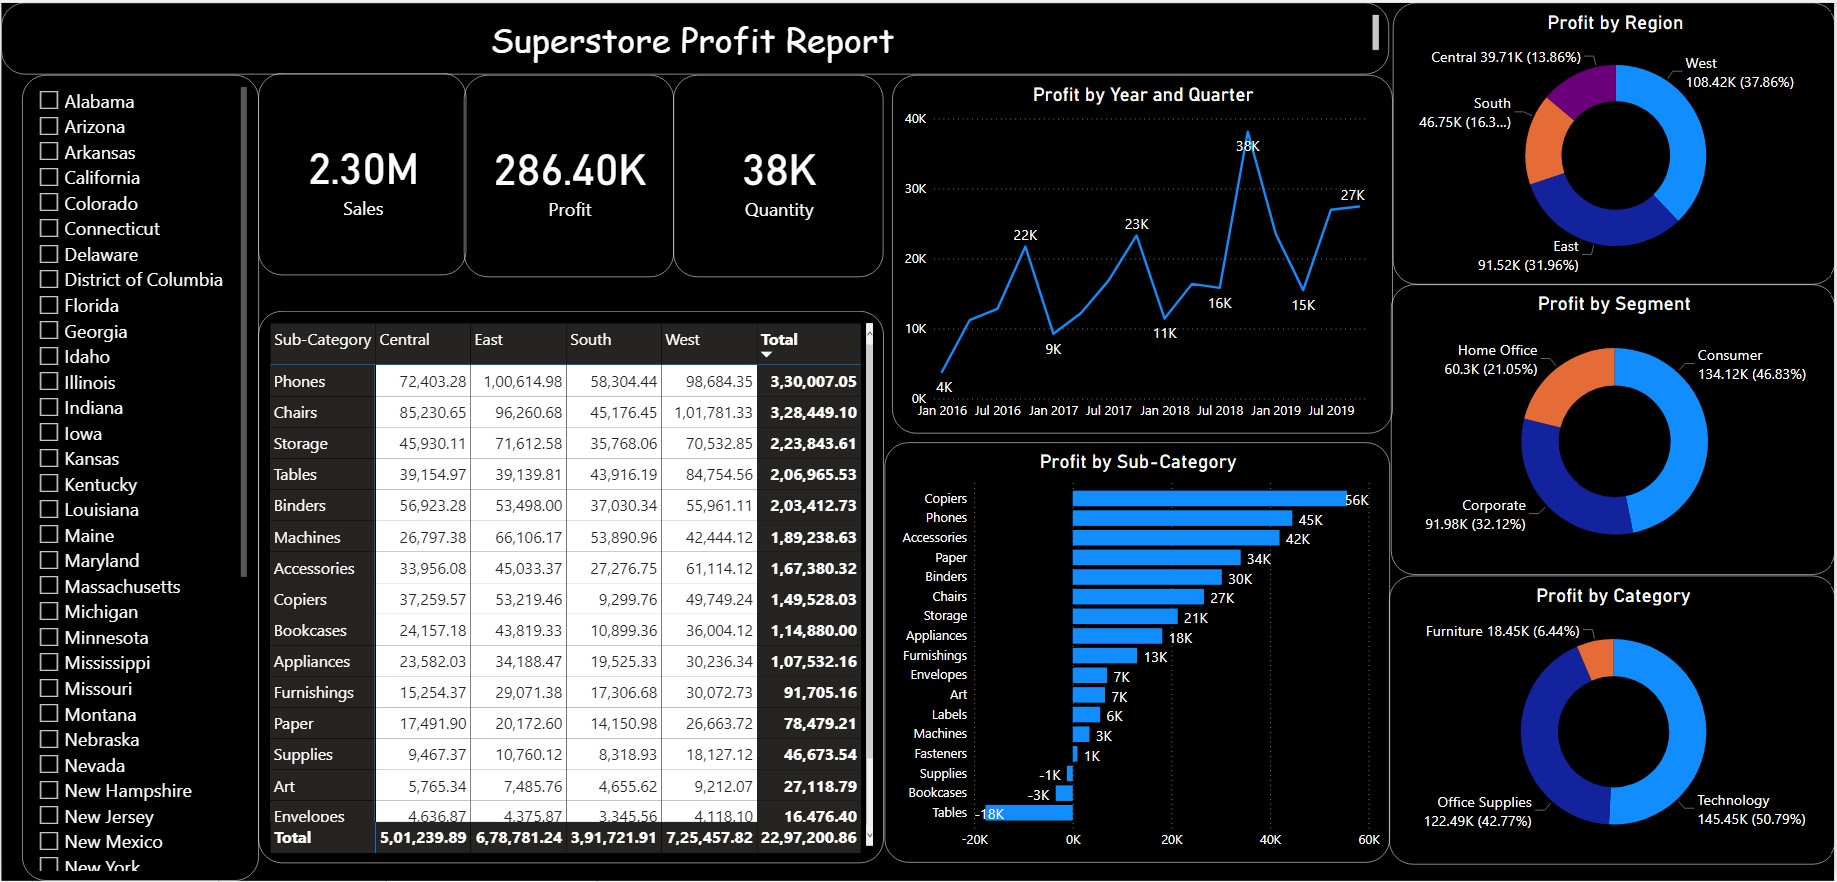

The dashboard page shown, as its layout file describes it:
{"tool":"powerbi","page":{"name":"Profit Report","canvas":[2300,1100],"ordinal":3},"visuals":[{"type":"textbox","box":[0,0,1739.6,89.9],"z":0},{"type":"donutChart","fields":{"Category":["Orders.Category"],"Y":["Sum(Orders.Profit)"]},"box":[1739.6,717.2,560.4,361.7],"z":1000},{"type":"donutChart","fields":{"Y":["Sum(Orders.Profit)"],"Category":["Orders.Segment"]},"box":[1741.7,353.4,558.3,363.8],"z":2000},{"type":"donutChart","fields":{"Y":["Sum(Orders.Profit)"],"Category":["Orders.Region"]},"box":[1743.8,0,556.2,353.4],"z":3000},{"type":"barChart","fields":{"Category":["Orders.Sub-Category"],"Y":["Sum(Orders.Profit)"]},"box":[1106.1,552,633.5,526.9],"z":4000},{"type":"lineChart","fields":{"Category":["Orders.Order Date.Variation.Date Hierarchy.Year","Orders.Order Date.Variation.Date Hierarchy.Quarter","Orders.Order Date.Variation.Date Hierarchy.Month","Orders.Order Date.Variation.Date Hierarchy.Day"],"Y":["Sum(Orders.Profit)"]},"box":[1116.5,89.9,627.3,449.5],"z":5000},{"type":"slicer","fields":{"Values":["Orders.State"]},"box":[25.8,90.3,296.7,1009.9],"z":6000},{"type":"pivotTable","fields":{"Rows":["Orders.Sub-Category"],"Values":["Sum(Orders.Sales)"],"Columns":["Orders.Region"]},"box":[322,386.8,784.1,692.1],"z":7000},{"type":"card","fields":{"Values":["Sum(Orders.Sales)"]},"box":[322.9,89.4,260.9,253.6],"z":8000},{"type":"card","fields":{"Values":["Sum(Orders.Profit)"]},"box":[579.2,89.9,263.5,253],"z":9000},{"type":"card","fields":{"Values":["Sum(Orders.Quantity)"]},"box":[842.6,89.9,263.5,253],"z":10000}]}

Visuals, with their boxes in screenshot pixels (x1, y1, x2, y2), scaled from the page's 2300x1100 canvas onto the 1837x882 screenshot:
textbox: <region>0, 0, 1389, 72</region>
donutChart - Orders.Category x Sum(Orders.Profit): <region>1389, 575, 1836, 865</region>
donutChart - Sum(Orders.Profit) x Orders.Segment: <region>1391, 283, 1836, 575</region>
donutChart - Sum(Orders.Profit) x Orders.Region: <region>1393, 0, 1836, 283</region>
barChart - Orders.Sub-Category x Sum(Orders.Profit): <region>883, 443, 1389, 865</region>
lineChart - Orders.Order Date.Variation.Date Hierarchy.Year x Orders.Order Date.Variation.Date Hierarchy.Quarter: <region>892, 72, 1393, 433</region>
slicer - Orders.State: <region>21, 72, 258, 881</region>
pivotTable - Orders.Sub-Category x Sum(Orders.Sales): <region>257, 310, 883, 865</region>
card - Sum(Orders.Sales): <region>258, 72, 466, 275</region>
card - Sum(Orders.Profit): <region>463, 72, 673, 275</region>
card - Sum(Orders.Quantity): <region>673, 72, 883, 275</region>
